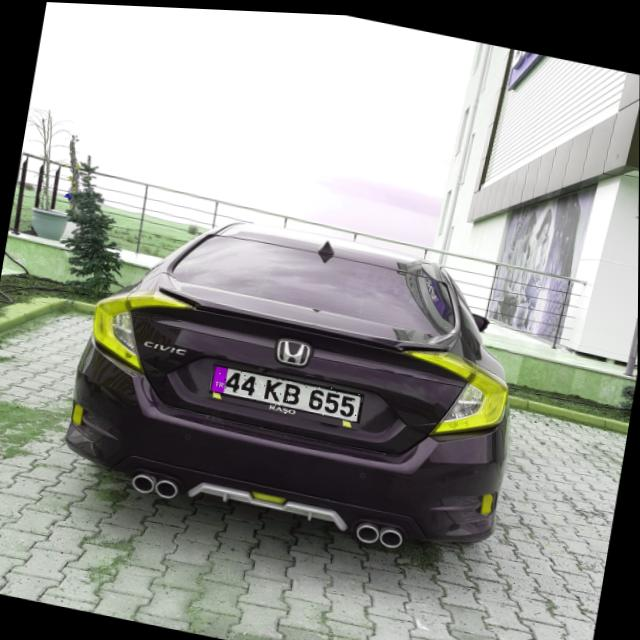license_plate: (209, 361, 365, 421)
